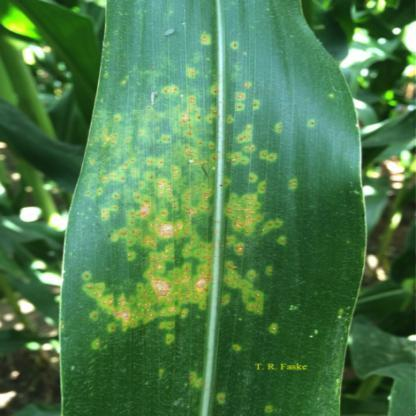Corn rust leaf: (48, 0, 379, 416)
